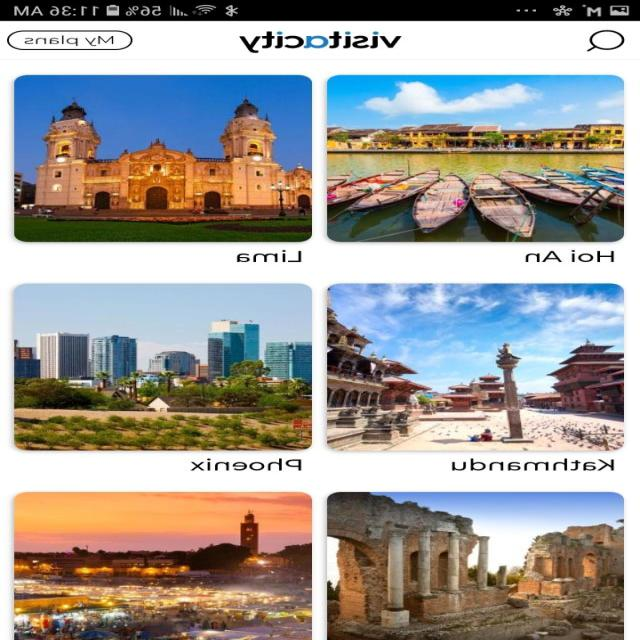Icon: (587, 30, 625, 52)
Image: (327, 282, 625, 450), (15, 283, 313, 451), (14, 75, 312, 242), (327, 75, 624, 242), (327, 492, 625, 640), (15, 492, 313, 640), (239, 30, 403, 53)
Text: (452, 458, 614, 470), (191, 458, 303, 470), (525, 250, 615, 262), (237, 249, 303, 262)
TextButton: (7, 30, 133, 50)
